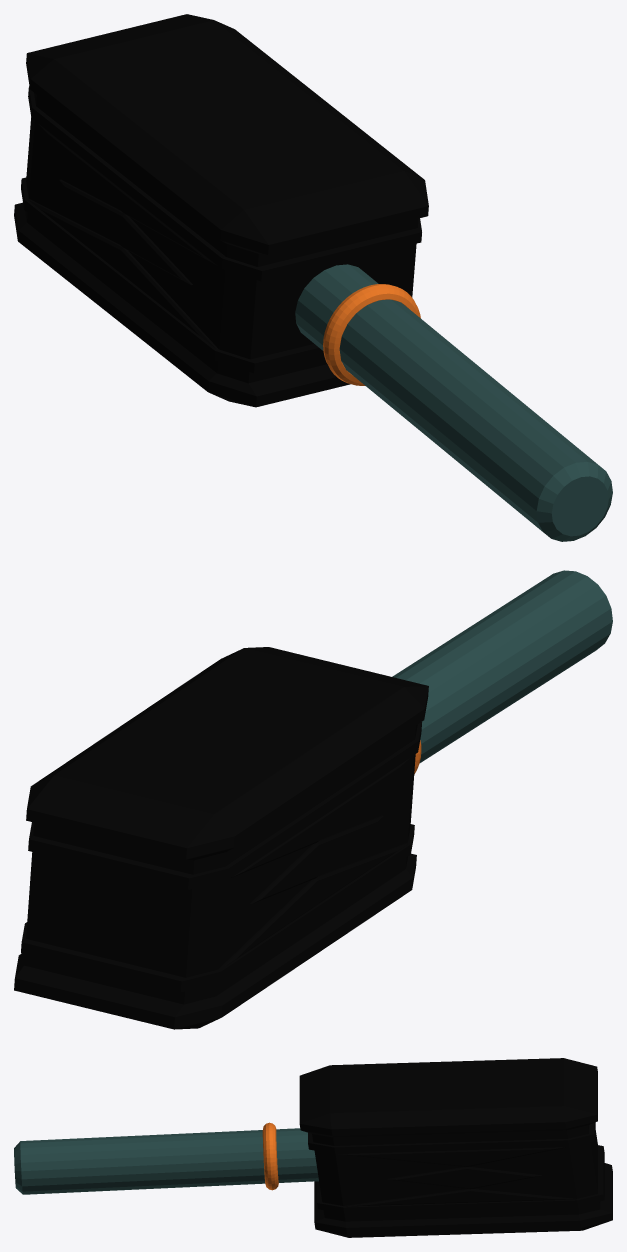
The model's file is marteau_intermediaire.fbx.
3 views of the same model, one above another, from view 1: azimuth 30°, elevation 25°; view 2: azimuth 150°, elevation 25°; view 3: azimuth 270°, elevation 25° (orthographic). The views are drawn at different scales.
Visible parts, largest first — view 1: Object_8.001; view 2: Object_8.001; view 3: Object_8.001.
Part boxes in pixels (left/top/right/bottom): Object_8.001: left=14, top=14, right=612, bottom=541; Object_8.001: left=14, top=570, right=612, bottom=1029; Object_8.001: left=14, top=1058, right=612, bottom=1237.
Size of the model in its own units: 77.16 by 77.41 by 319.
